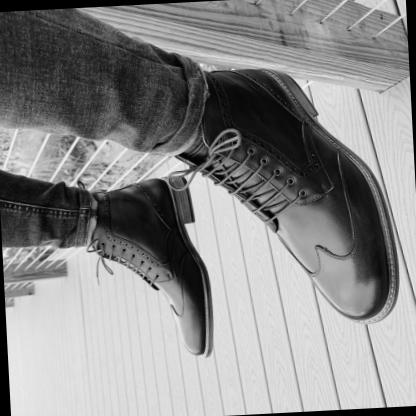ankle: (231, 98, 241, 109), (128, 212, 136, 220)
heel: (268, 70, 274, 76), (161, 181, 166, 187)
left_foot: (203, 60, 404, 332)
pinky: (377, 266, 385, 275), (183, 335, 189, 342)
right_foot: (107, 174, 216, 361)
toe: (348, 307, 355, 316), (198, 347, 203, 353)
